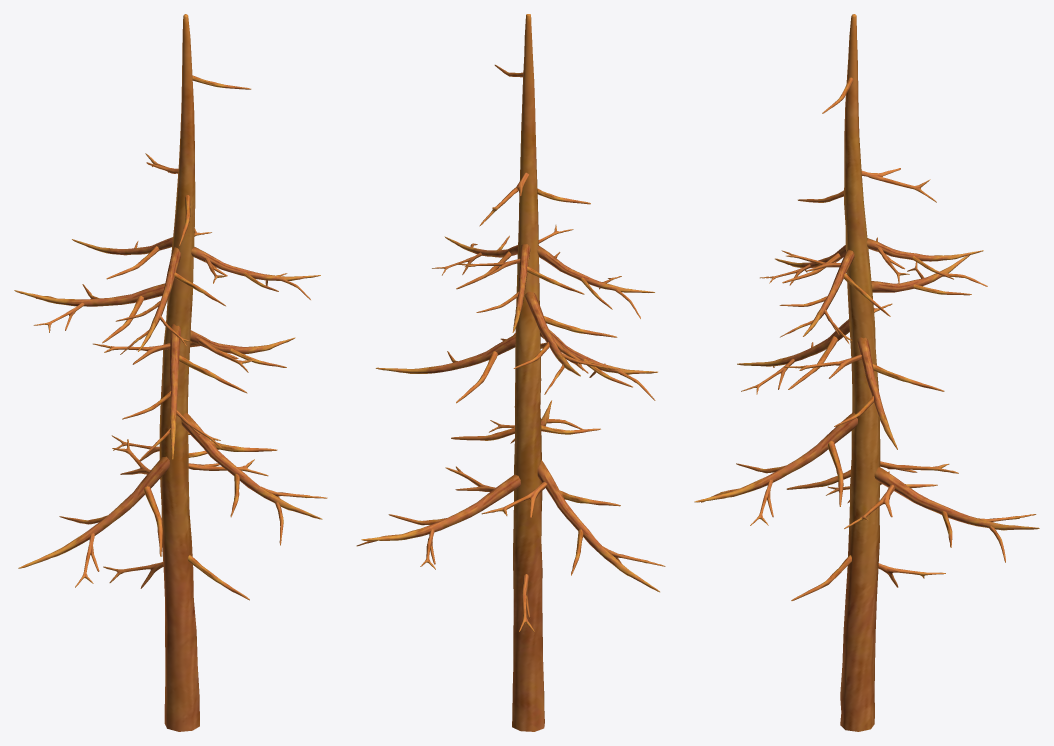
Rendered from small_stylized_pine_var4.glb.
3 renders of one model, left to right at view 1: azimuth 30°, elevation 25°; view 2: azimuth 150°, elevation 25°; view 3: azimuth 270°, elevation 25°, orthographic.
Visible parts, largest first — view 1: small_stylized_pine_var4; view 2: small_stylized_pine_var4; view 3: small_stylized_pine_var4.
Boxes of the visible parts, bbox=[...] form: small_stylized_pine_var4: bbox=[14, 14, 327, 731]; small_stylized_pine_var4: bbox=[356, 14, 665, 731]; small_stylized_pine_var4: bbox=[694, 14, 1039, 731].
Bounding box in the file's own units: 345 × 834 × 367.
1 material, 1 textured.
